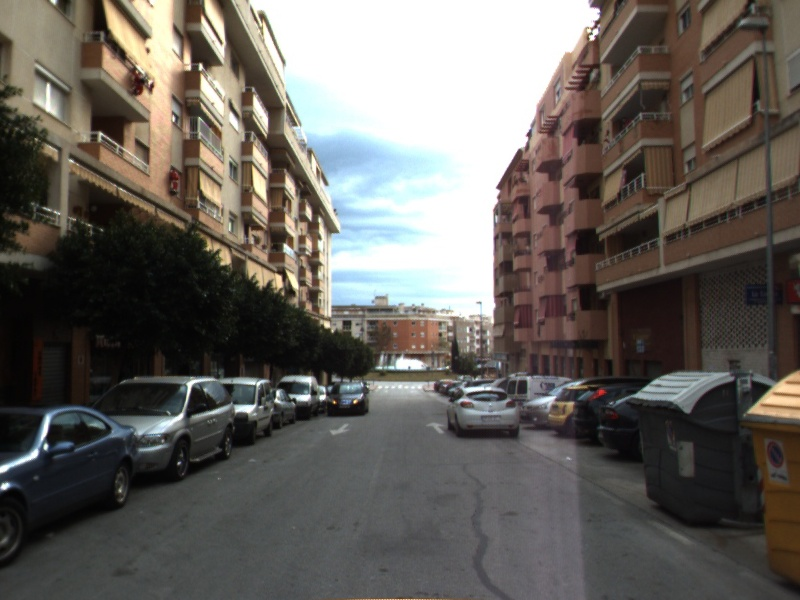STRAIGHT: (424, 420, 448, 435)
